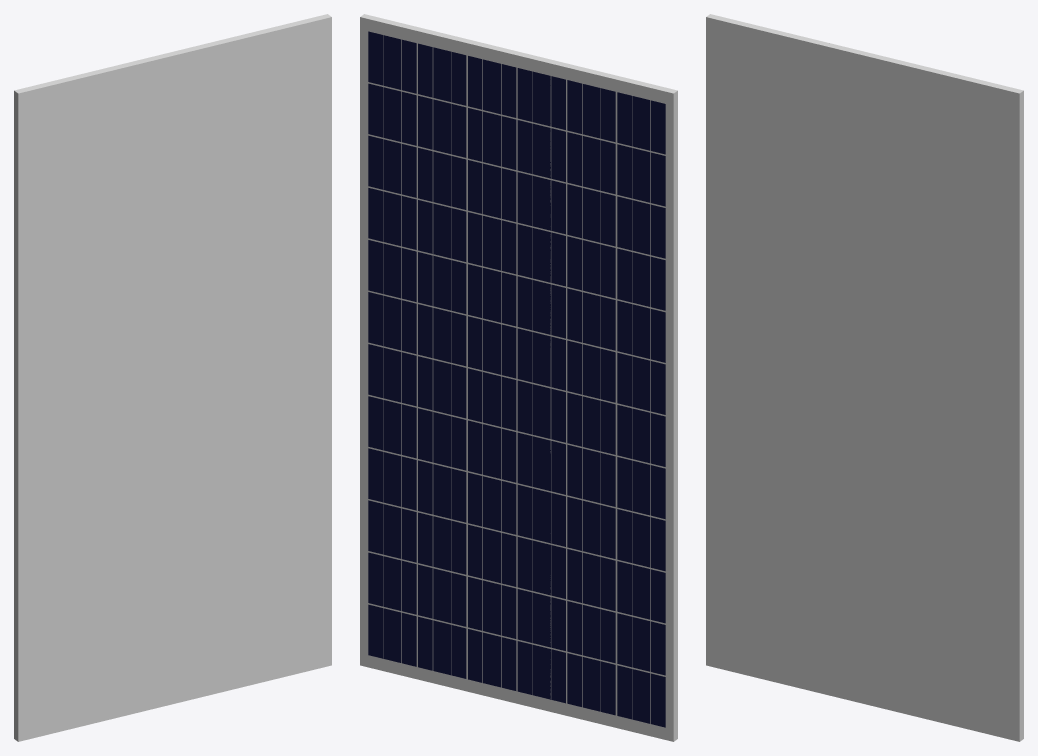
The model's file is solar.gltf.
3 renders of one model, left to right at view 1: azimuth 30°, elevation 25°; view 2: azimuth 150°, elevation 25°; view 3: azimuth 330°, elevation 25°, orthographic.
Parts seen in each view (by area): view 1: Solar_Panel_6*12_B; view 2: Solar_Panel_6*12_B; view 3: Solar_Panel_6*12_B.
Part boxes in pixels (<box>): Solar_Panel_6*12_B: <box>14,14,331,741</box>; Solar_Panel_6*12_B: <box>360,14,677,741</box>; Solar_Panel_6*12_B: <box>706,14,1023,741</box>.
Bounding box in the file's own units: 0.2008 × 0.3967 × 0.00465.
